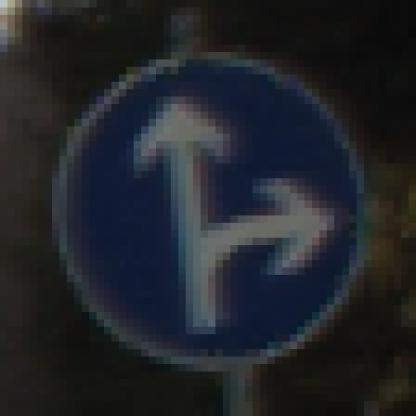Straight or Right: (45, 45, 380, 380)
